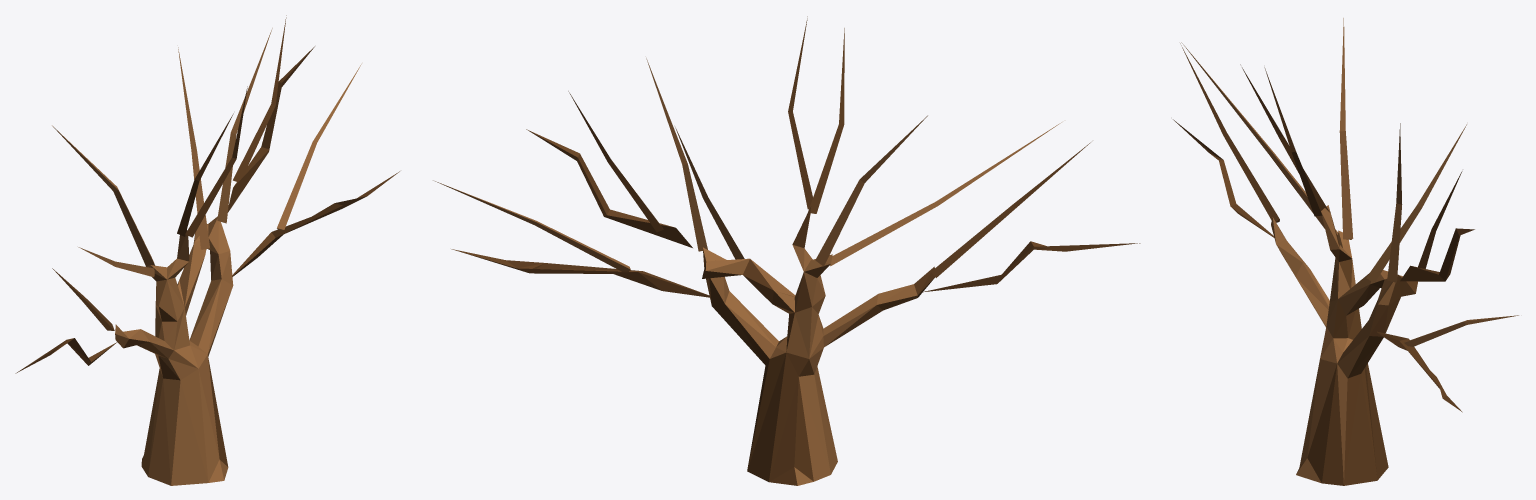
Rendered from apple_bare_far.glb.
The picture shows the model from 3 angles, left to right: view 1: azimuth 30°, elevation 25°; view 2: azimuth 150°, elevation 25°; view 3: azimuth 270°, elevation 25°; orthographic projection. The views are drawn at different scales.
Visible parts, largest first — view 1: apple_bare_far; view 2: apple_bare_far; view 3: apple_bare_far.
Boxes of the visible parts, x1,y1,x2,y2 form: apple_bare_far: (15,15,399,485); apple_bare_far: (433,16,1140,485); apple_bare_far: (1173,18,1518,485).
Size of the model in its own units: 7.84 by 5.73 by 4.39.
